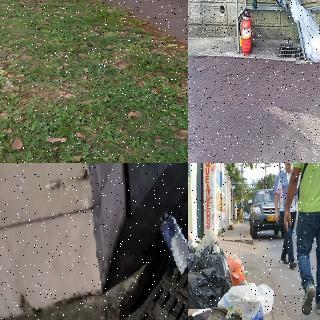Garbage: (286, 0, 320, 70), (157, 202, 188, 276), (219, 282, 277, 320), (188, 267, 225, 312)
